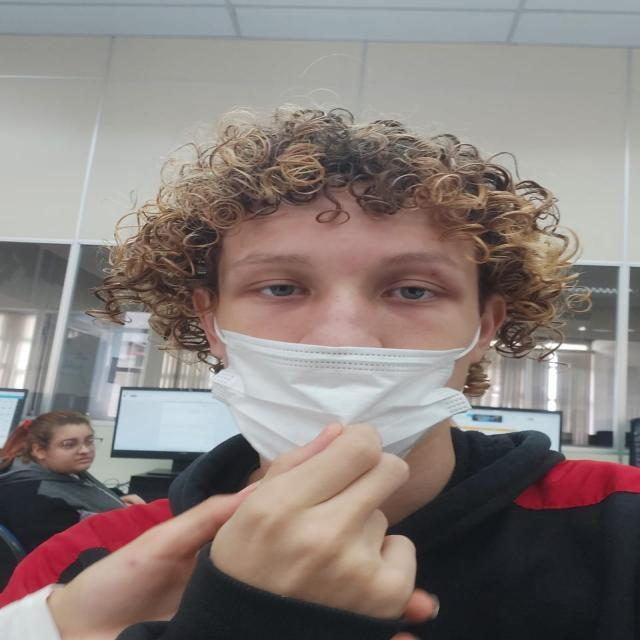hairnet: (224, 201, 483, 470)
